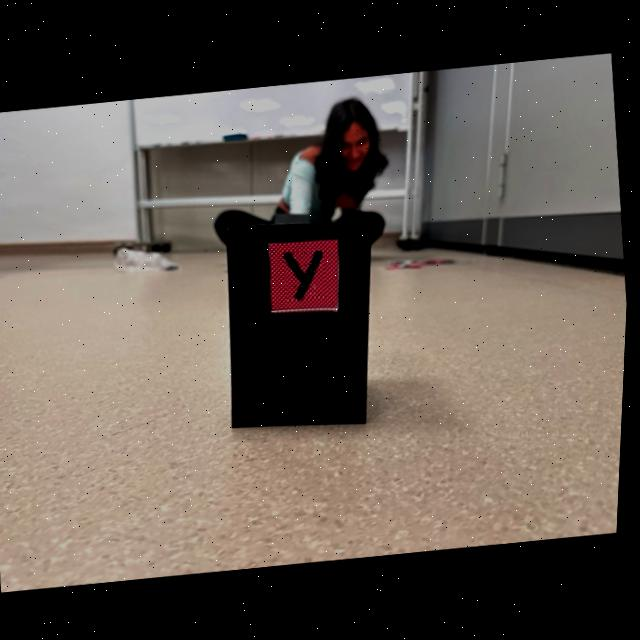Y: (287, 251, 325, 299)
